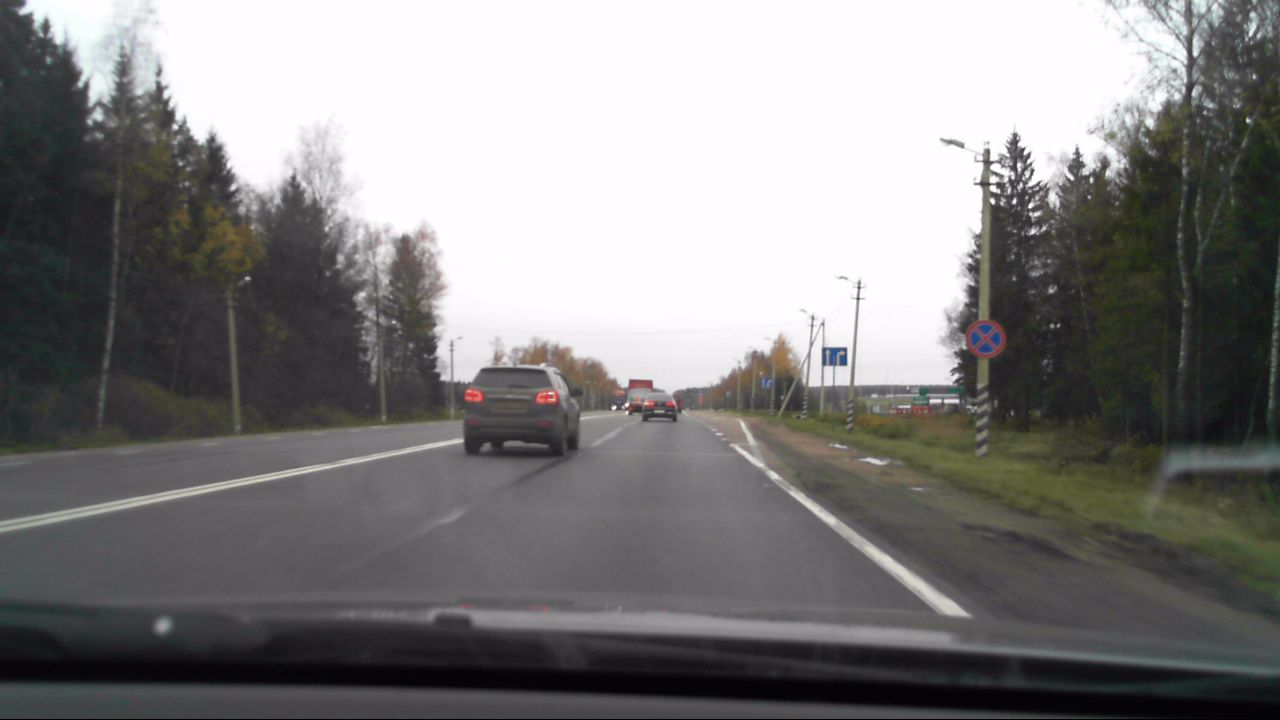No Parking: (963, 317, 1007, 358)
